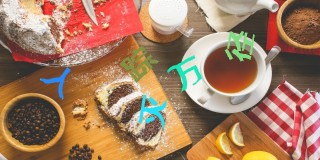万: (166, 54, 202, 92)
人: (39, 67, 72, 100)
径: (224, 31, 255, 62)
灭: (137, 94, 166, 128)
踪: (120, 47, 161, 82)
